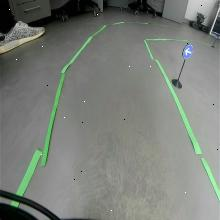left: (182, 44, 194, 60)
